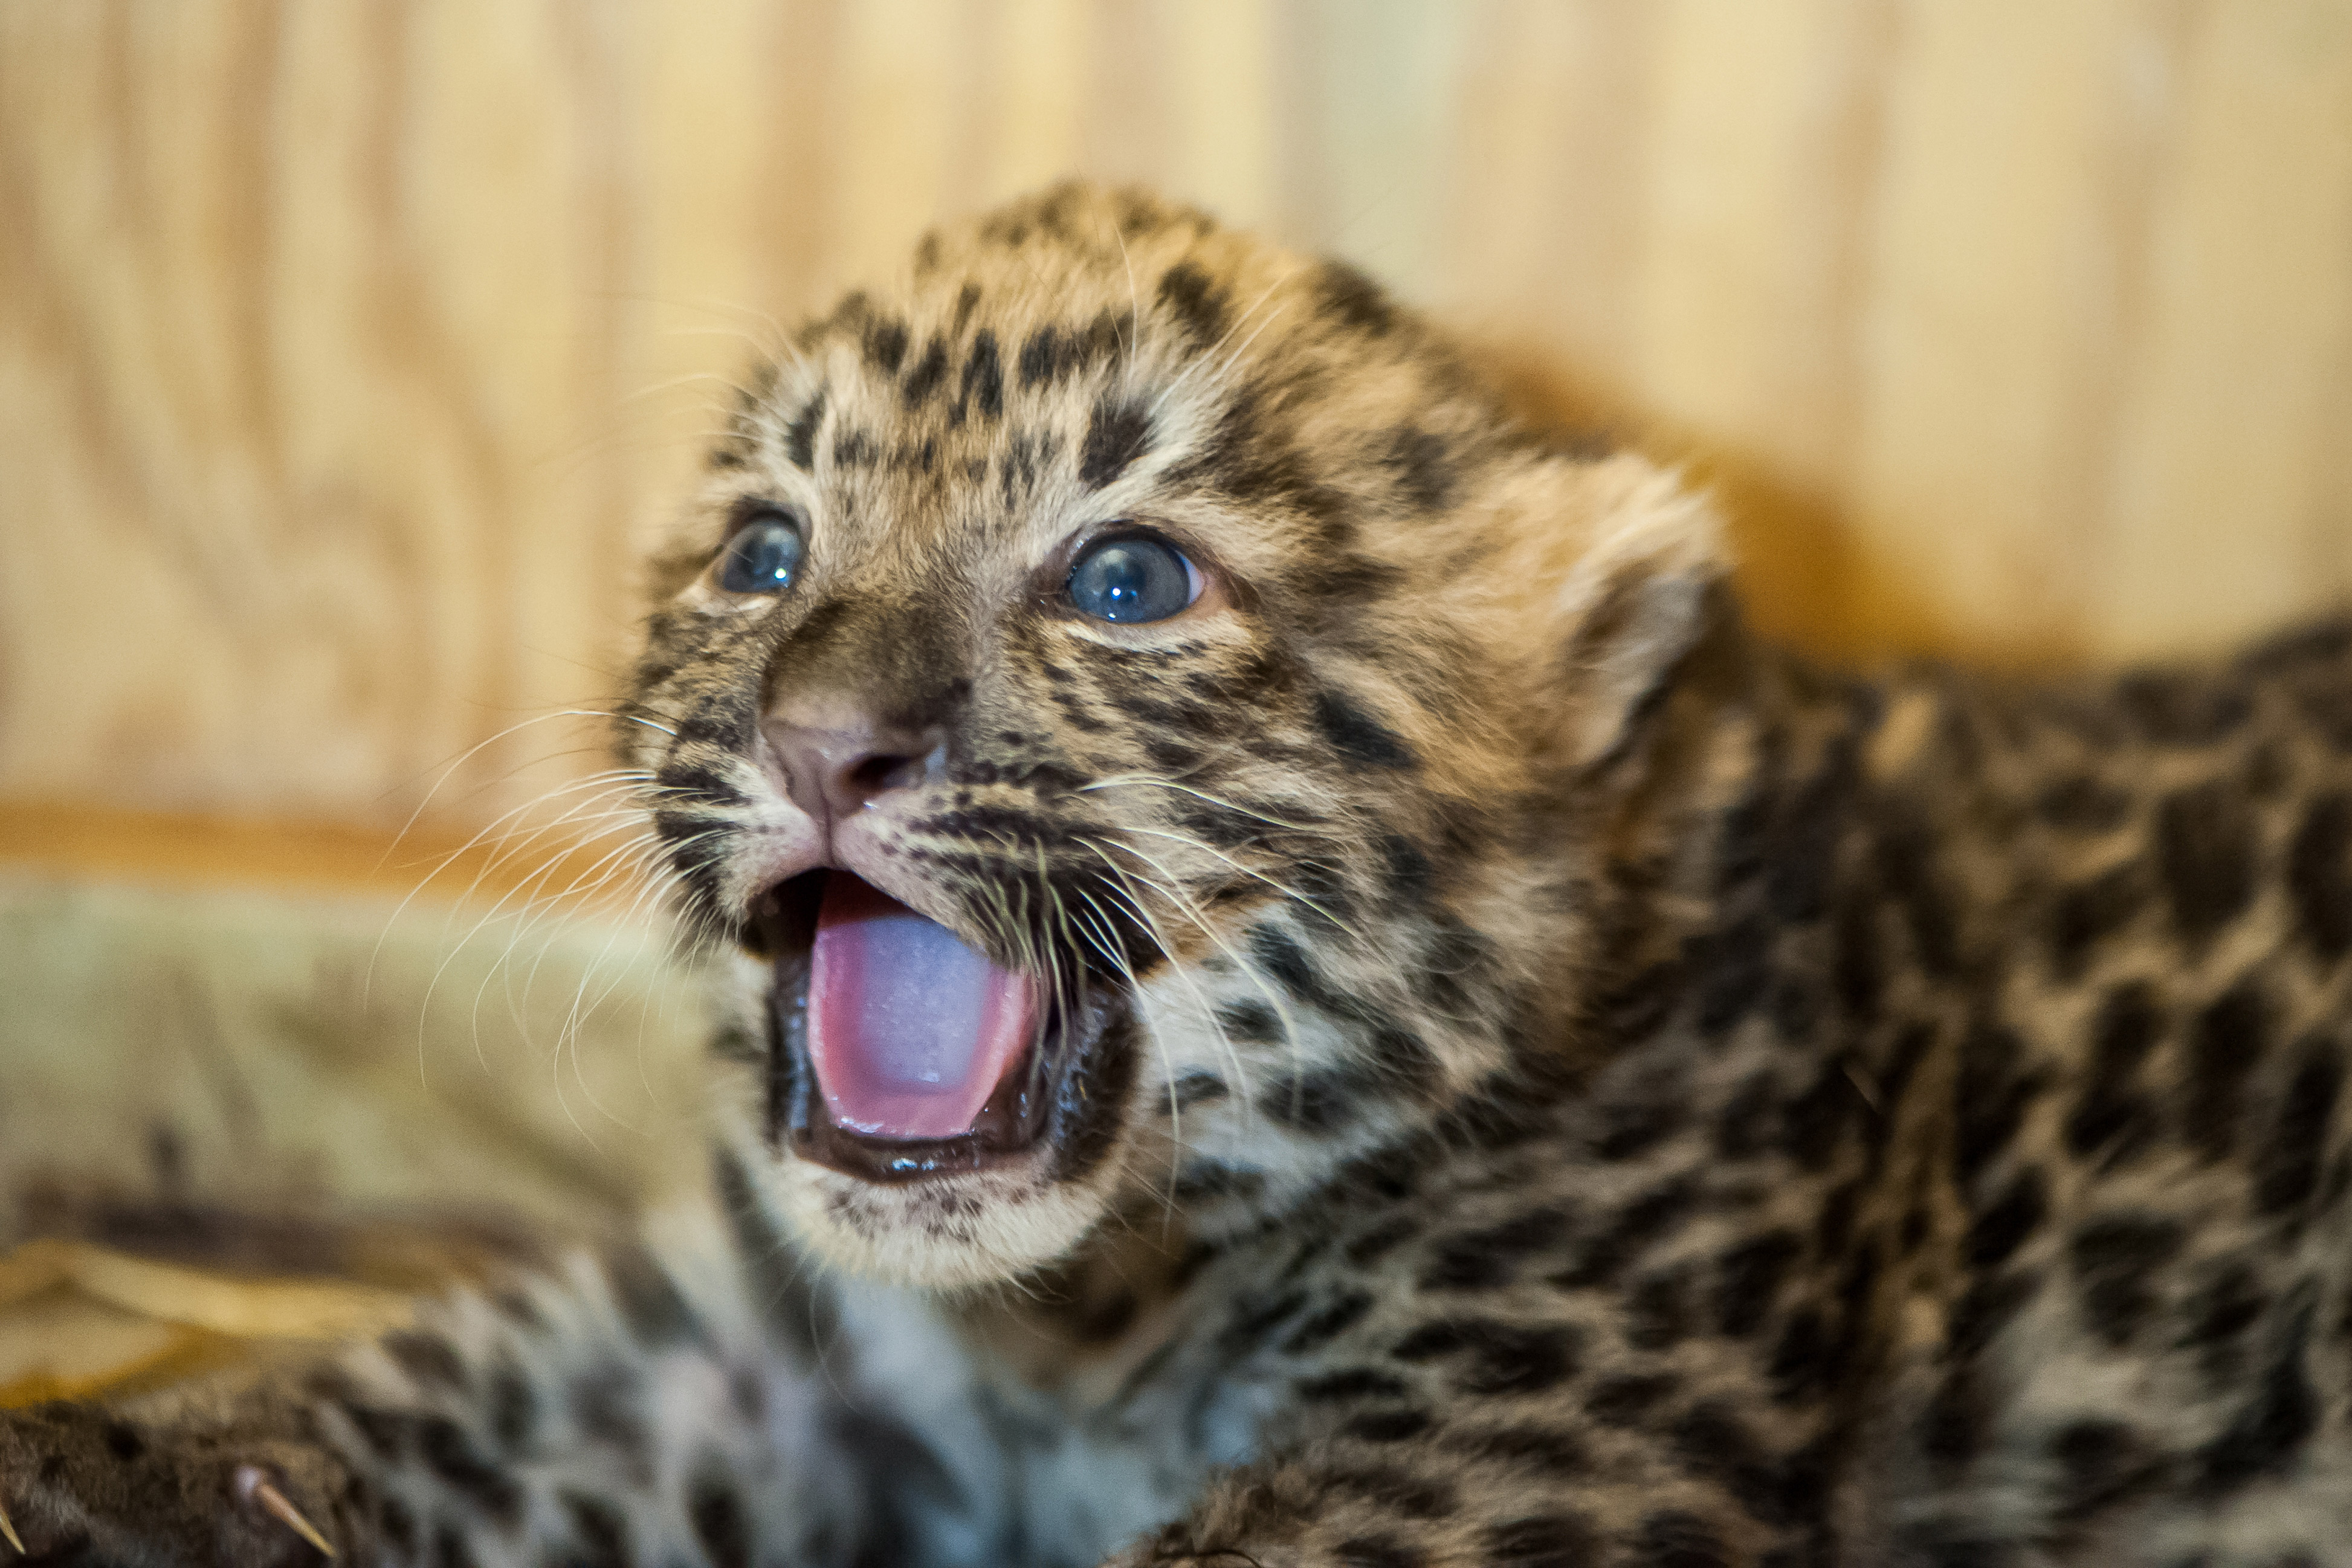amur_leopard: (569, 136, 1726, 1339)
